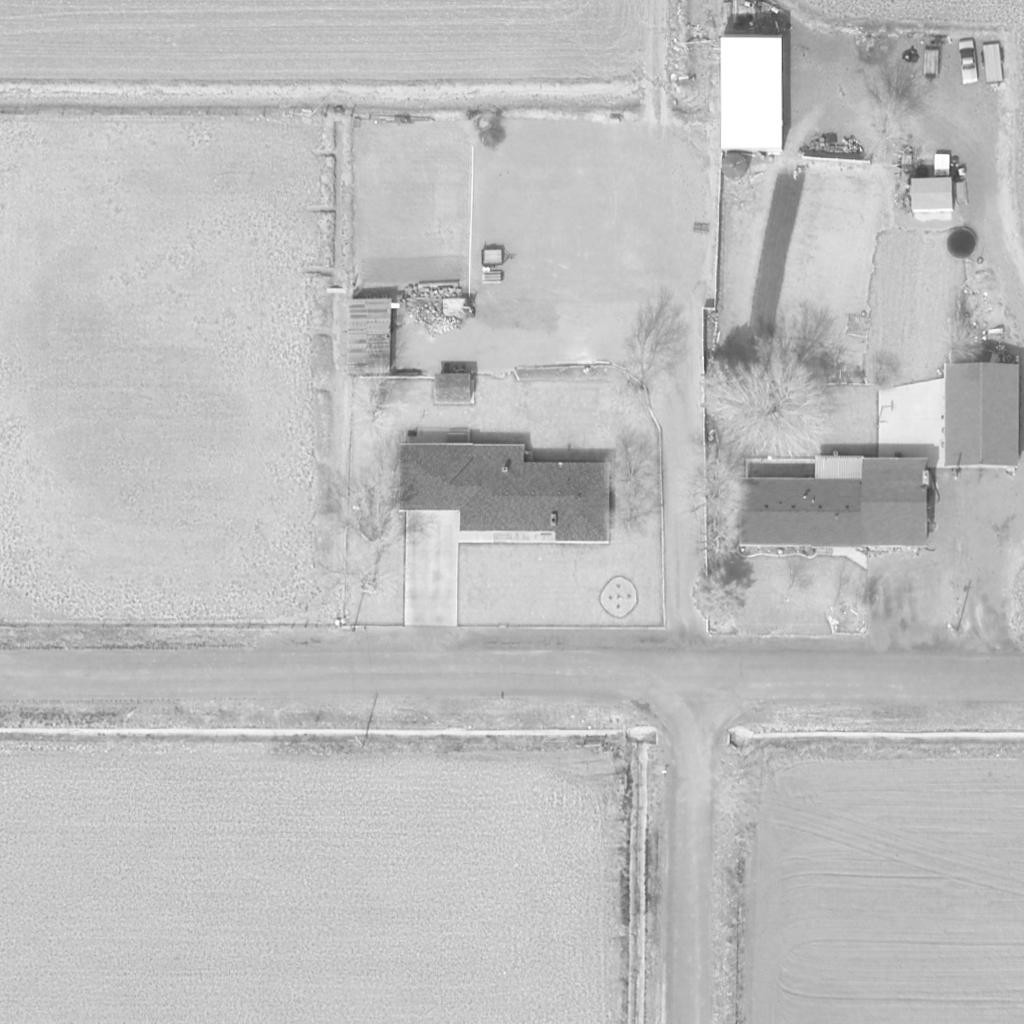vehicle: (957, 40, 979, 86)
